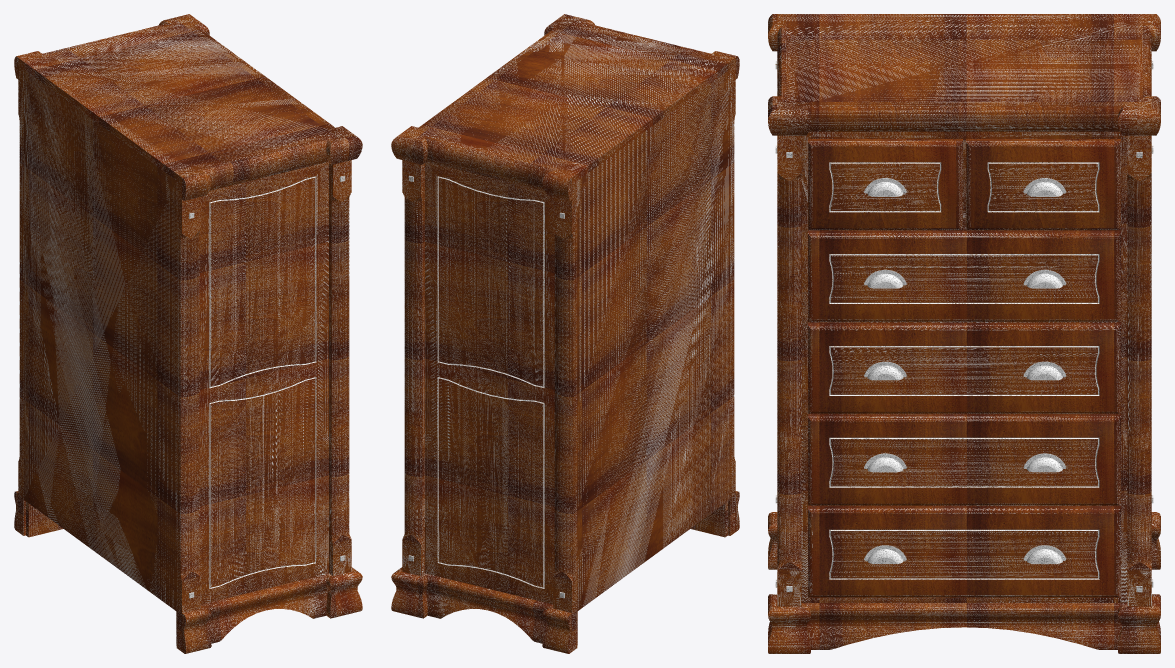
3 renders of one model, left to right at view 1: azimuth 30°, elevation 25°; view 2: azimuth 150°, elevation 25°; view 3: azimuth 270°, elevation 25°, orthographic. The views are drawn at different scales.
Visible parts, largest first — view 1: mesh1_mesh1-geometry, mesh5_mesh5-geometry, mesh6_mesh6-geometry, mesh15_mesh15-geometry, mesh18_mesh18-geometry, mesh8_mesh8-geometry, mesh4_mesh4-geometry; view 2: mesh1_mesh1-geometry, mesh4_mesh4-geometry, mesh6_mesh6-geometry, mesh15_mesh15-geometry, mesh12_mesh12-geometry, mesh8_mesh8-geometry, mesh5_mesh5-geometry; view 3: mesh9_mesh9-geometry, mesh6_mesh6-geometry, mesh17_mesh17-geometry, mesh8_mesh8-geometry, mesh2_mesh2-geometry, mesh12_mesh12-geometry, mesh18_mesh18-geometry, mesh10_mesh10-geometry, mesh11_mesh11-geometry.
Part boxes in pixels (left/top/right/bottom): mesh1_mesh1-geometry: left=23, top=69, right=176, bottom=611; mesh5_mesh5-geometry: left=176, top=162, right=328, bottom=648; mesh6_mesh6-geometry: left=14, top=14, right=362, bottom=200; mesh15_mesh15-geometry: left=18, top=65, right=200, bottom=651; mesh18_mesh18-geometry: left=329, top=160, right=351, bottom=575; mesh8_mesh8-geometry: left=14, top=491, right=362, bottom=653; mesh4_mesh4-geometry: left=22, top=68, right=63, bottom=537; mesh1_mesh1-geometry: left=577, top=69, right=730, bottom=611; mesh4_mesh4-geometry: left=425, top=162, right=577, bottom=648; mesh6_mesh6-geometry: left=391, top=14, right=739, bottom=200; mesh15_mesh15-geometry: left=553, top=65, right=735, bottom=651; mesh12_mesh12-geometry: left=402, top=160, right=424, bottom=575; mesh8_mesh8-geometry: left=391, top=491, right=739, bottom=653; mesh5_mesh5-geometry: left=690, top=68, right=731, bottom=537; mesh9_mesh9-geometry: left=808, top=230, right=1120, bottom=597; mesh6_mesh6-geometry: left=768, top=14, right=1160, bottom=135; mesh17_mesh17-geometry: left=808, top=139, right=1120, bottom=230; mesh8_mesh8-geometry: left=768, top=512, right=1160, bottom=653; mesh2_mesh2-geometry: left=801, top=131, right=1127, bottom=602; mesh12_mesh12-geometry: left=1127, top=135, right=1153, bottom=606; mesh18_mesh18-geometry: left=775, top=135, right=801, bottom=606; mesh10_mesh10-geometry: left=864, top=178, right=1044, bottom=563; mesh11_mesh11-geometry: left=885, top=178, right=1066, bottom=563.
Bounding box in the file's own units: 0.3104 × 0.7947 × 0.5216.
